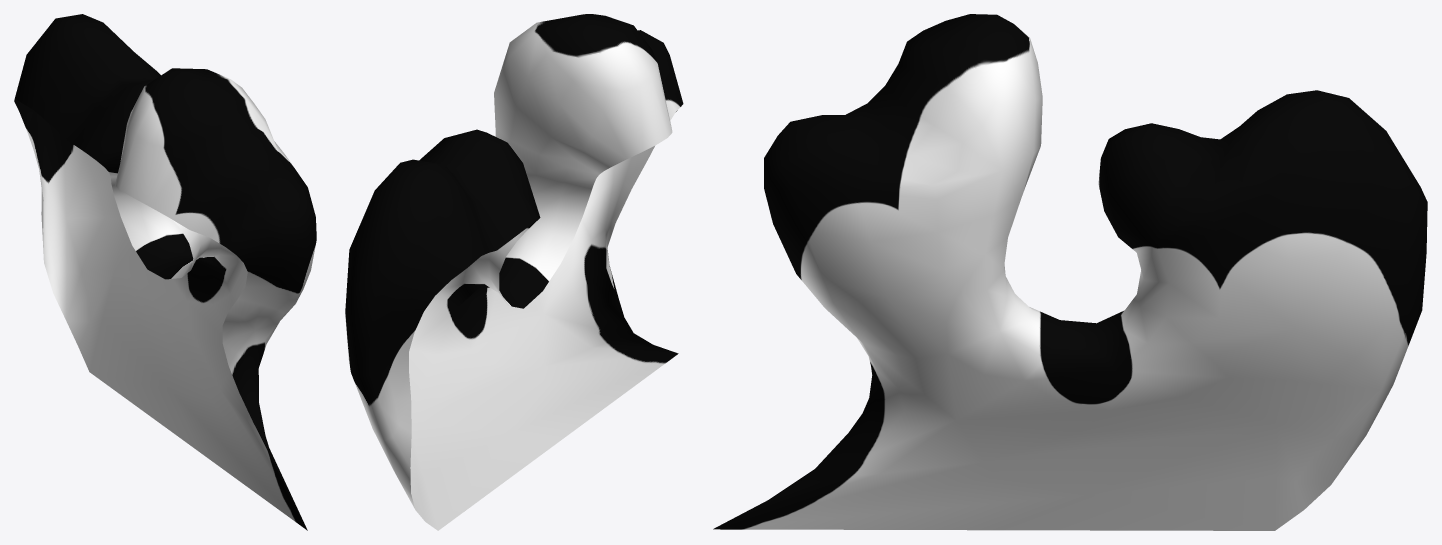
The model's file is SM_Clouds_02.fbx.
The picture shows the model from 3 angles, left to right: view 1: azimuth 30°, elevation 25°; view 2: azimuth 150°, elevation 25°; view 3: azimuth 270°, elevation 25°; orthographic projection. The views are drawn at different scales.
Parts seen in each view (by area): view 1: SM_Clouds_01; view 2: SM_Clouds_01; view 3: SM_Clouds_01.
Boxes of the visible parts, <box> form: SM_Clouds_01: <box>14,14,316,530</box>; SM_Clouds_01: <box>345,14,683,530</box>; SM_Clouds_01: <box>713,14,1427,530</box>.
Bounding box in the file's own units: 356 × 840 × 1093.
